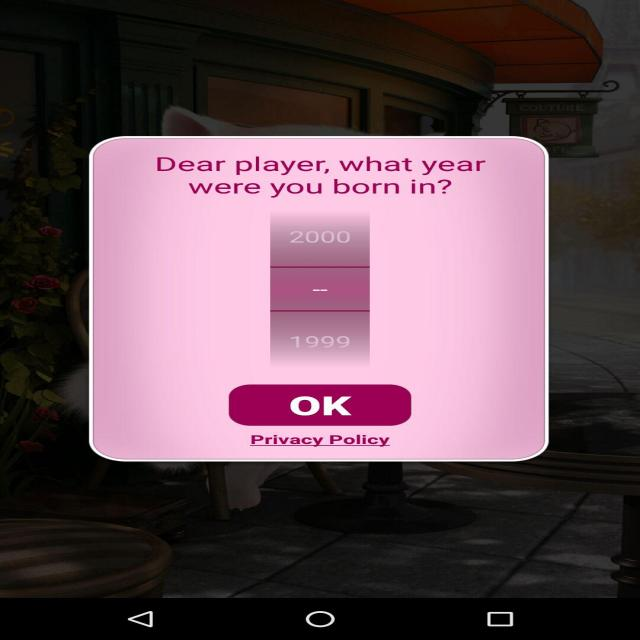button: (239, 210, 402, 382), (219, 386, 428, 422), (238, 430, 405, 451)
text: (130, 156, 514, 196)
